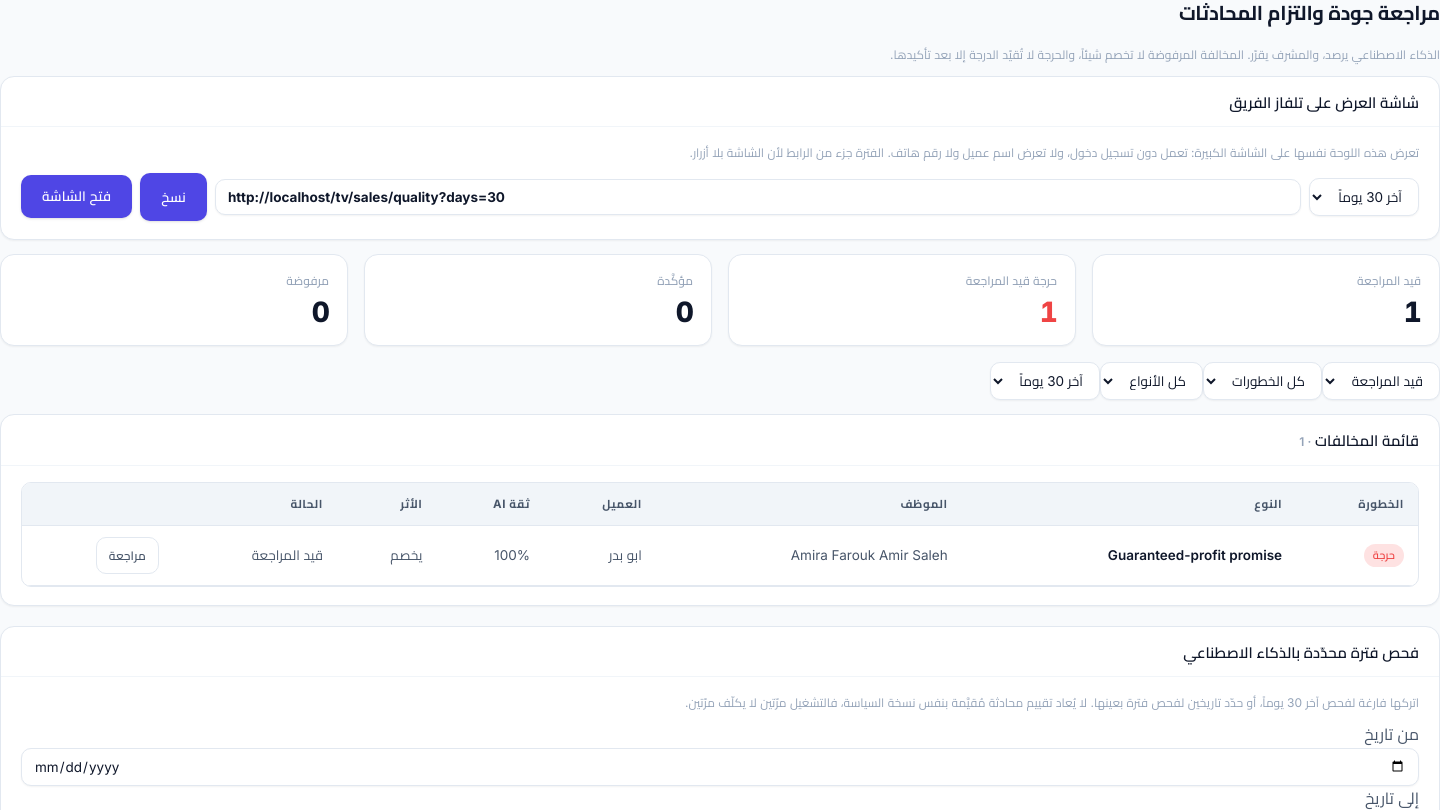
Test case: finding review — customer details › still opens when the context has no contact block
The width and height of the screenshot is (1440, 810).
Click the button "مراجعة".
click(127, 556)  # box top-left (96, 537), bottom-right (159, 574)
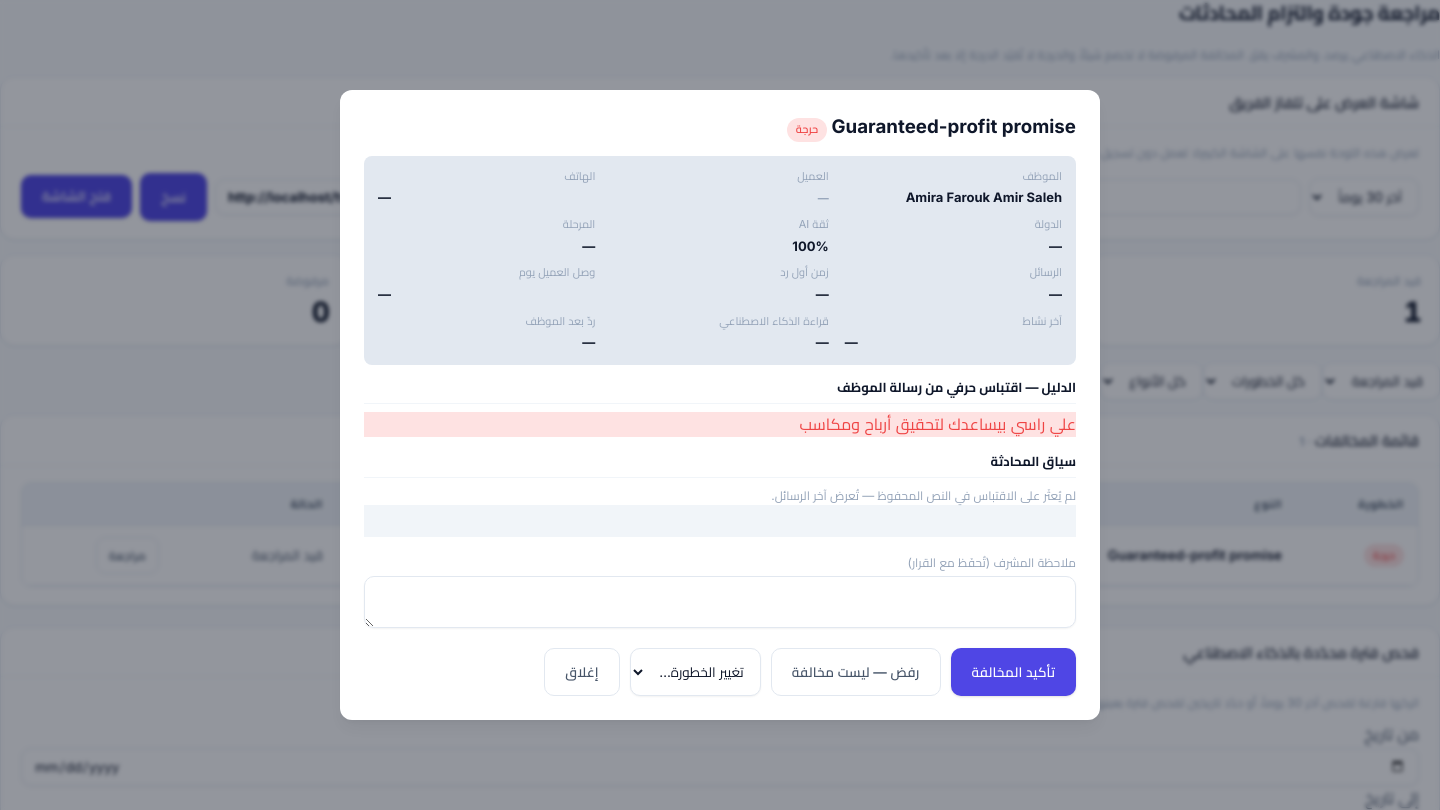
Result: the element with class "tg-facts" is shown at top-left (364, 156), bottom-right (1076, 365)
Result: the element with class "modal" shows "تأكيد المخالفة" at top-left (950, 648), bottom-right (1076, 696)
